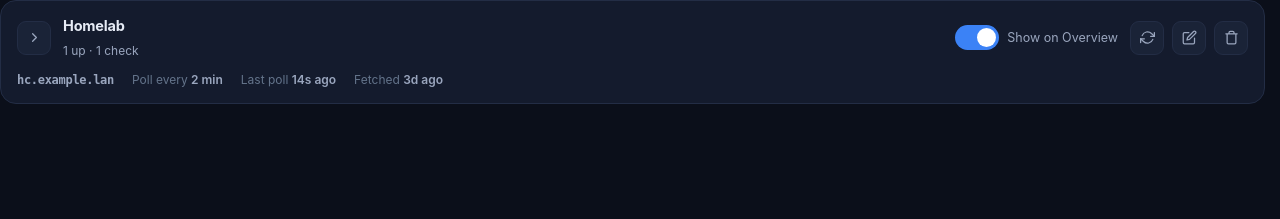
Test: ProjectCard › expands into the checks table
The image size is (1280, 219).
Click the button named "Expand Homelab" at [34, 38], box [17,21,51,55]
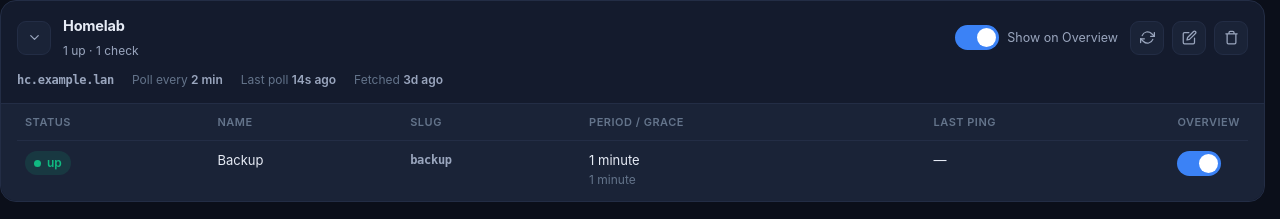
Expected: the table is shown, [17,104,1248,199]
Expected: the button named "Collapse Homelab" is expanded, [17,21,51,55]
